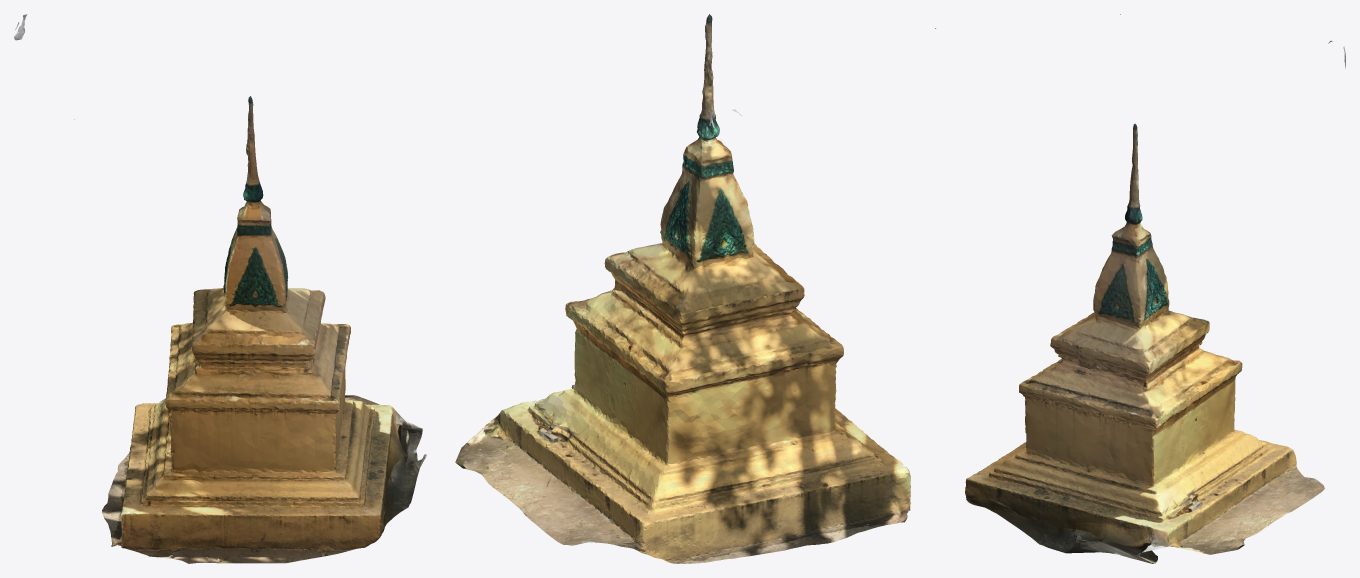
The picture shows the model from 3 angles, left to right: view 1: azimuth 30°, elevation 25°; view 2: azimuth 150°, elevation 25°; view 3: azimuth 270°, elevation 25°; orthographic projection. The views are drawn at different scales.
Bounding box in the file's own units: 1.28 × 1.46 × 1.26.
1 material, 1 textured.
